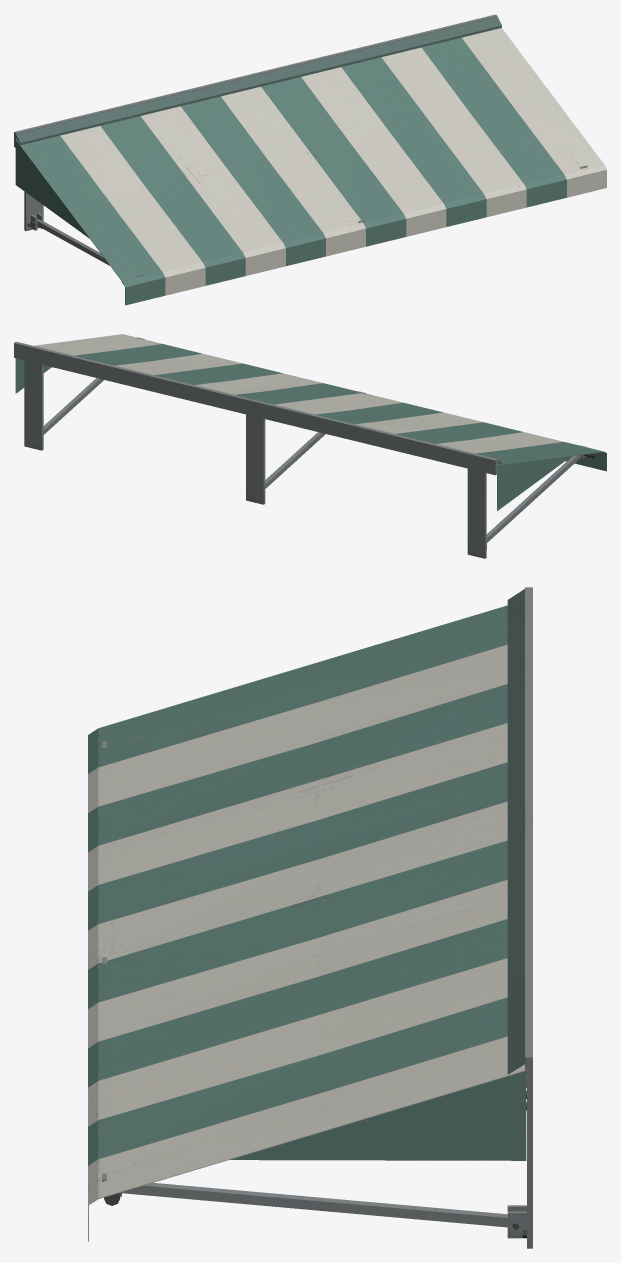
The model's file is storefront_awning_canvas.glb.
The picture shows the model from 3 angles, top to bottom: view 1: azimuth 30°, elevation 25°; view 2: azimuth 150°, elevation 25°; view 3: azimuth 270°, elevation 25°; orthographic projection. The views are drawn at different scales.
Parts seen in each view (by area): view 1: StorefrontAwningCanvas; view 2: StorefrontAwningCanvas; view 3: StorefrontAwningCanvas.
Boxes of the visible parts, box(x1,y1,x2,y2) form: StorefrontAwningCanvas: box(14, 14, 606, 305); StorefrontAwningCanvas: box(14, 334, 606, 558); StorefrontAwningCanvas: box(88, 587, 532, 1248).
Bounding box in the file's own units: 3 × 0.6 × 1.2.
Materials: 1 (1 with a texture image).
